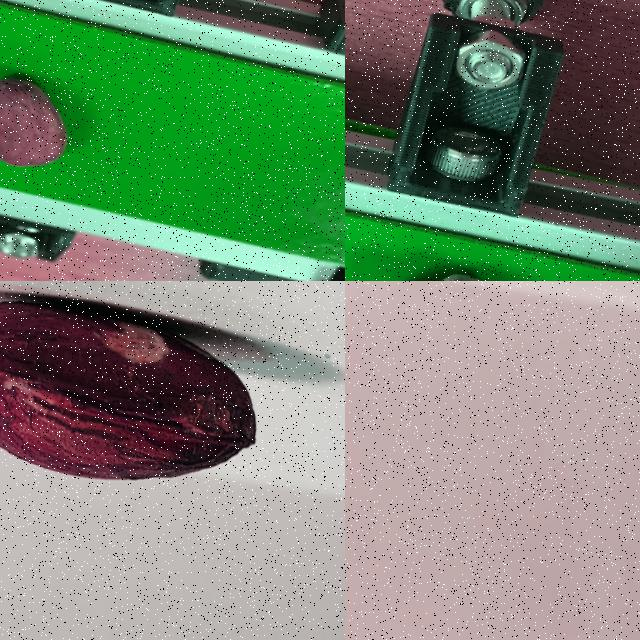Agglomerated_cocoabeans: (345, 210, 596, 280)
Fine_cocoabeans: (0, 281, 344, 584), (0, 35, 186, 213)
